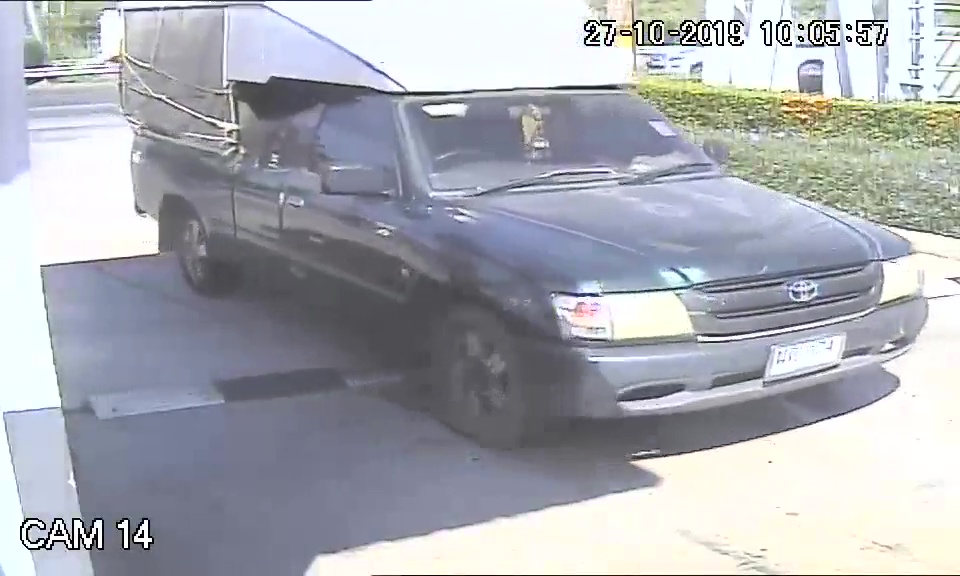pickup: (127, 57, 931, 446)
